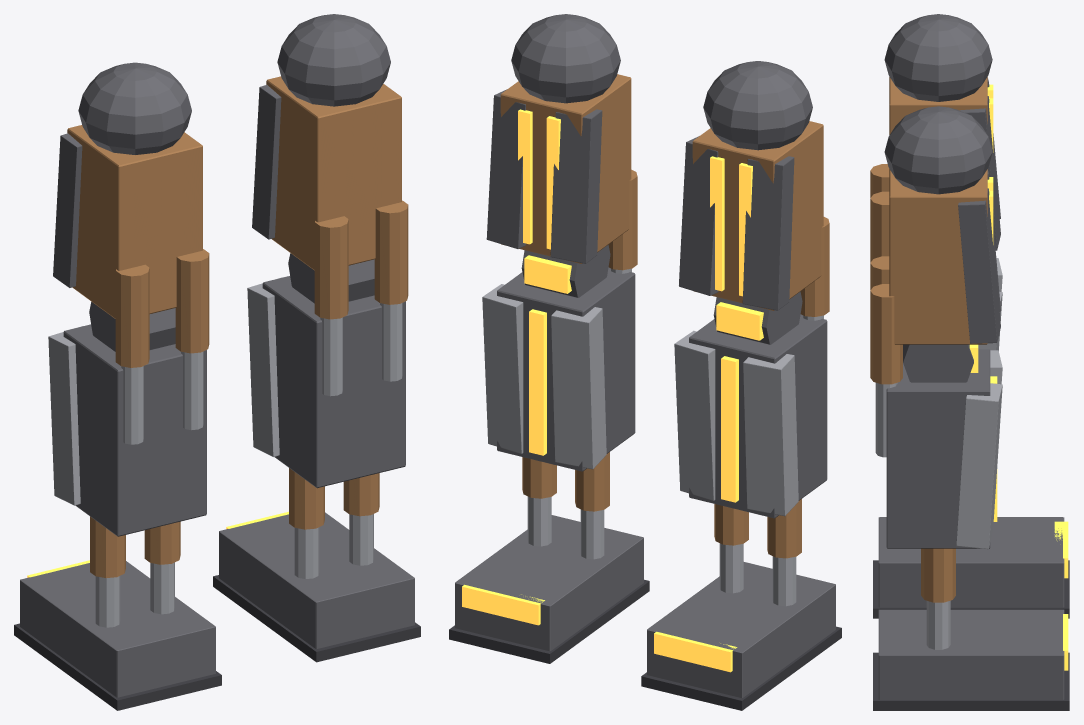
The model's file is surge-stomp.glb.
The picture shows the model from 3 angles, left to right: view 1: azimuth 30°, elevation 25°; view 2: azimuth 150°, elevation 25°; view 3: azimuth 270°, elevation 25°; orthographic projection. The views are drawn at different scales.
Parts seen in each view (by area): view 1: shin_r, shin_l, thigh_l, thigh_r, foot_l, foot_r, hip_l, hip_r, greave_r_r, greave_r_l, sleeve.001_l, sleeve.005_r (+20 smaller); view 2: foot_l, foot_r, shin_l, shin_r, thigh_l, thigh_r, greave_r_l, greave_r_r, hip_l, hip_r, tchunk_r_l, tchunk_r_r (+28 smaller); view 3: foot_l, shin_l, thigh_l, foot_r, hip_l, hip_r, greave_l_l, tchunk_l_l, sleeve_l, sole_l, knee_l, sleeve.002_l (+10 smaller).
Part boxes in pixels (<box>): shin_r: <box>63,324,206,536</box>; shin_l: <box>262,276,405,488</box>; thigh_l: <box>266,76,401,270</box>; thigh_r: <box>67,125,202,318</box>; foot_l: <box>219,512,414,648</box>; foot_r: <box>20,561,215,697</box>; hip_l: <box>277,14,390,106</box>; hip_r: <box>78,62,191,154</box>; greave_r_r: <box>48,326,83,505</box>; greave_r_l: <box>247,277,282,456</box>; sleeve.001_l: <box>314,216,348,319</box>; sleeve.005_r: <box>115,264,149,367</box>; foot_l: <box>455,515,643,651</box>; foot_r: <box>647,562,835,697</box>; shin_l: <box>497,267,635,471</box>; shin_r: <box>689,314,827,518</box>; thigh_l: <box>500,74,631,263</box>; thigh_r: <box>692,121,823,310</box>; greave_r_l: <box>551,307,606,469</box>; greave_r_r: <box>743,354,798,516</box>; hip_l: <box>511,14,620,103</box>; hip_r: <box>703,61,812,150</box>; tchunk_r_l: <box>550,109,602,263</box>; tchunk_r_r: <box>742,156,794,310</box>; foot_l: <box>878,609,1064,699</box>; shin_l: <box>886,349,990,548</box>; thigh_l: <box>889,169,987,344</box>; foot_r: <box>878,517,1064,607</box>; hip_l: <box>884,106,992,194</box>; hip_r: <box>884,14,992,101</box>; greave_l_l: <box>956,383,1002,549</box>; tchunk_l_l: <box>958,188,1000,343</box>; sleeve_l: <box>870,284,902,384</box>; sole_l: <box>873,652,1069,710</box>; knee_l: <box>903,344,973,382</box>; sleeve.002_l: <box>921,548,955,602</box>.
Size of the model in its own units: 0.6223 by 1.16 by 0.365.
